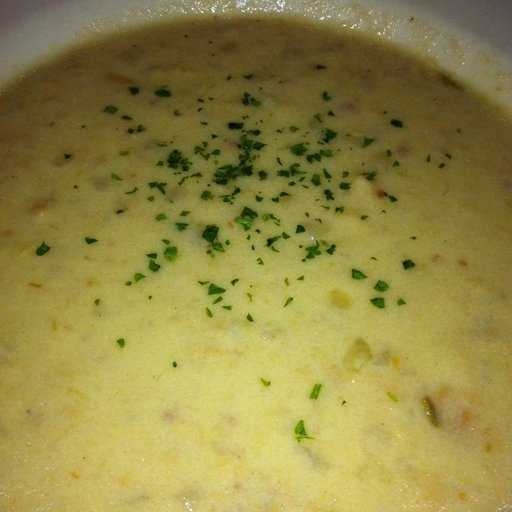soup: (5, 12, 507, 504)
